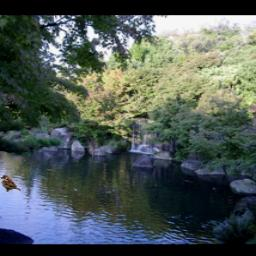Sparrow: (1, 175, 22, 192)
